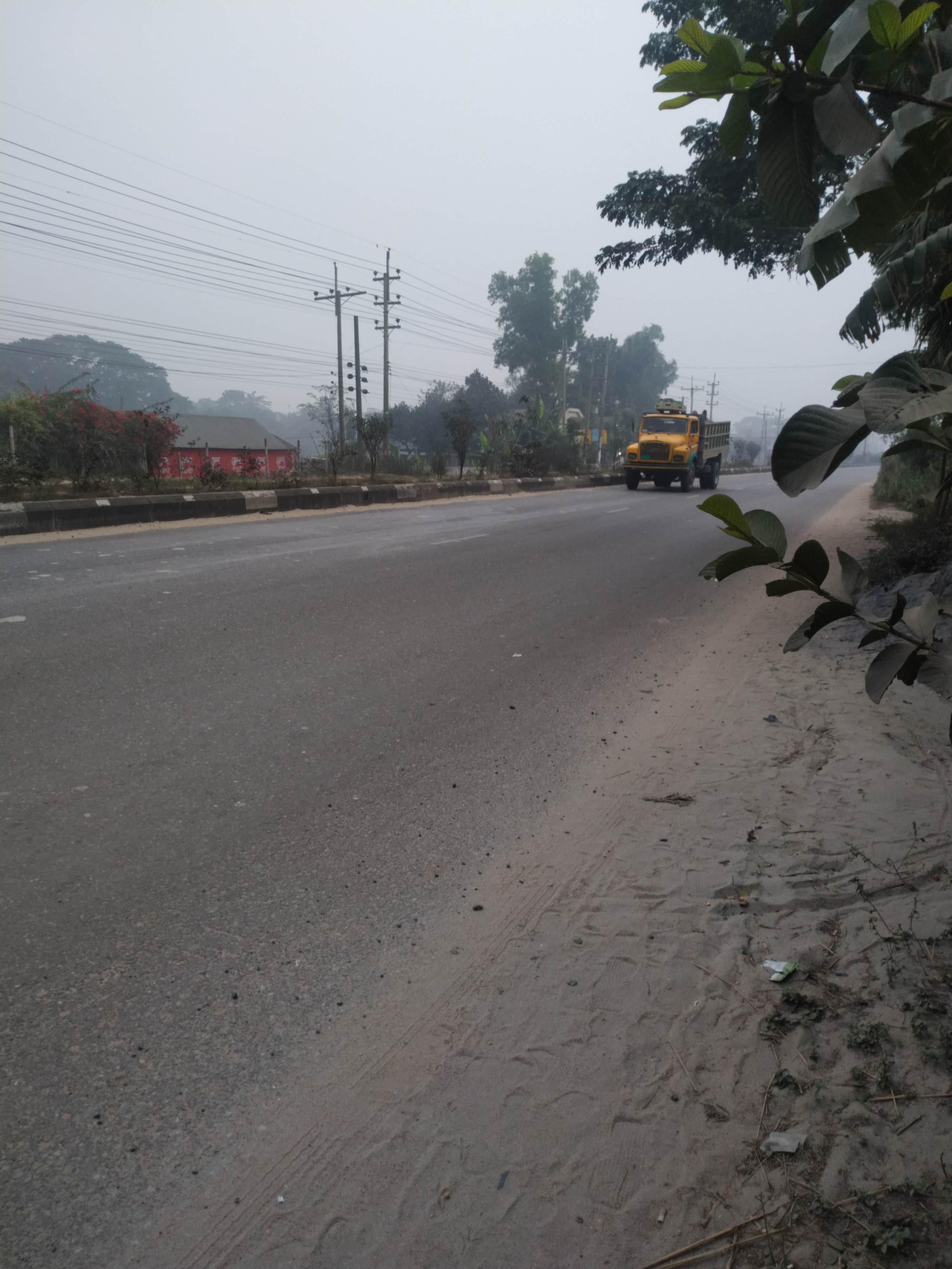Truck: (611, 377, 765, 513)
